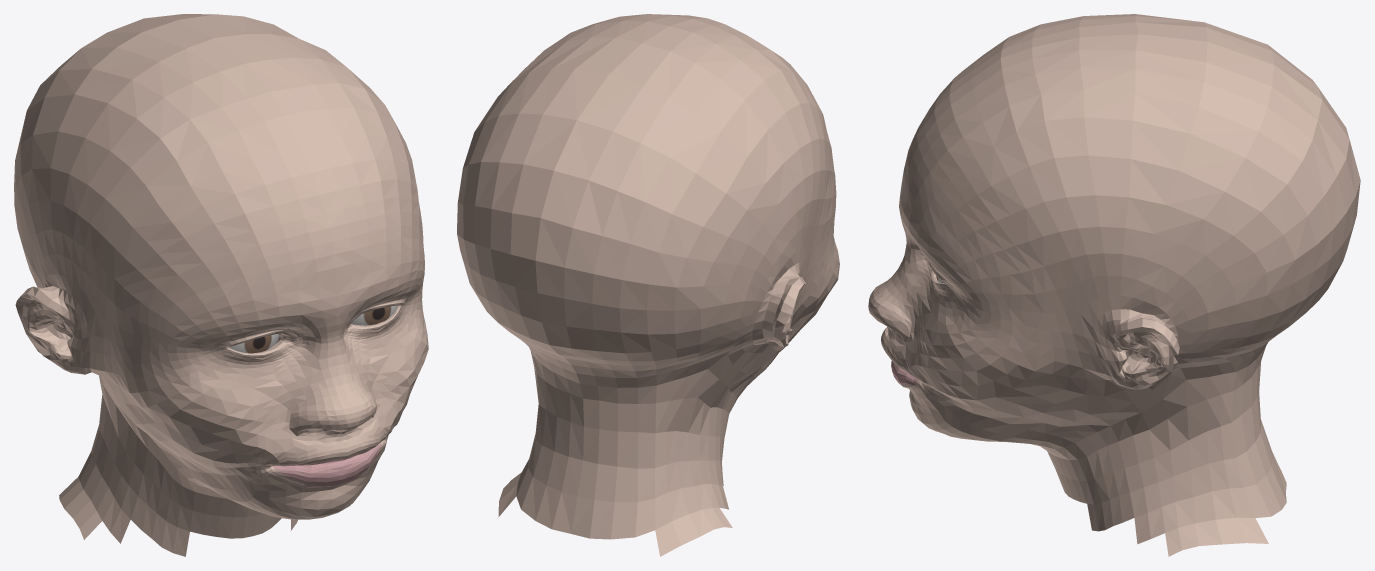
File: karma_face_MH_neutral_AC.glb
3 views of the same model, side by side, from view 1: azimuth 30°, elevation 25°; view 2: azimuth 150°, elevation 25°; view 3: azimuth 270°, elevation 25° (orthographic). The views are drawn at different scales.
Visible parts, largest first — view 1: head; view 2: head; view 3: head.
Boxes of the visible parts, left/top/right/bottom form: head: left=14, top=14, right=428, bottom=556; head: left=457, top=14, right=839, bottom=556; head: left=868, top=14, right=1360, bottom=556.
Bounding box in the file's own units: 3.03 × 3.91 × 3.7.
